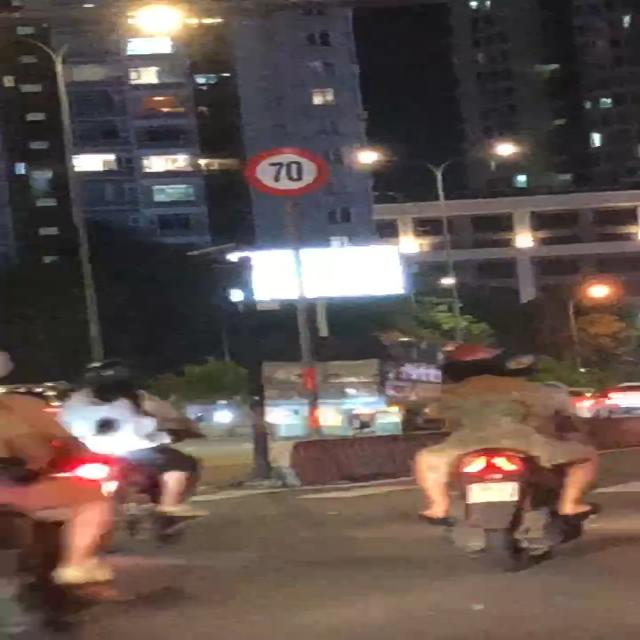Bien bao toc do toi da cho phep: (241, 144, 325, 198)
